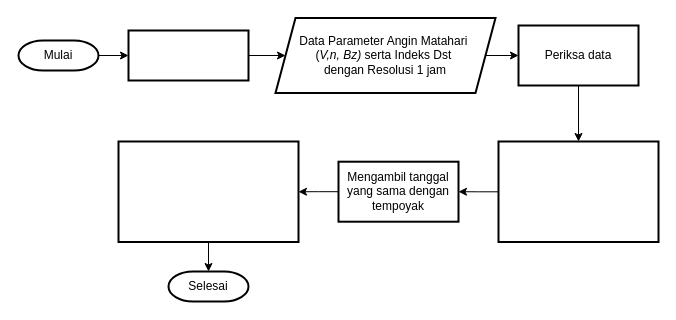
The diagram is 676 pixels wide and 320 high, and some of its shapes have lost their labels. Each missing label, with the box of its shape:
Membuat plot time series tiap parameter pada tanggal yang sama dengan tempoyak: (117, 140, 299, 242)
Membuat plot time series tiap parameter selama bulan oktober 2025: (497, 140, 659, 242)
Pengambilan Data: (127, 29, 249, 81)
